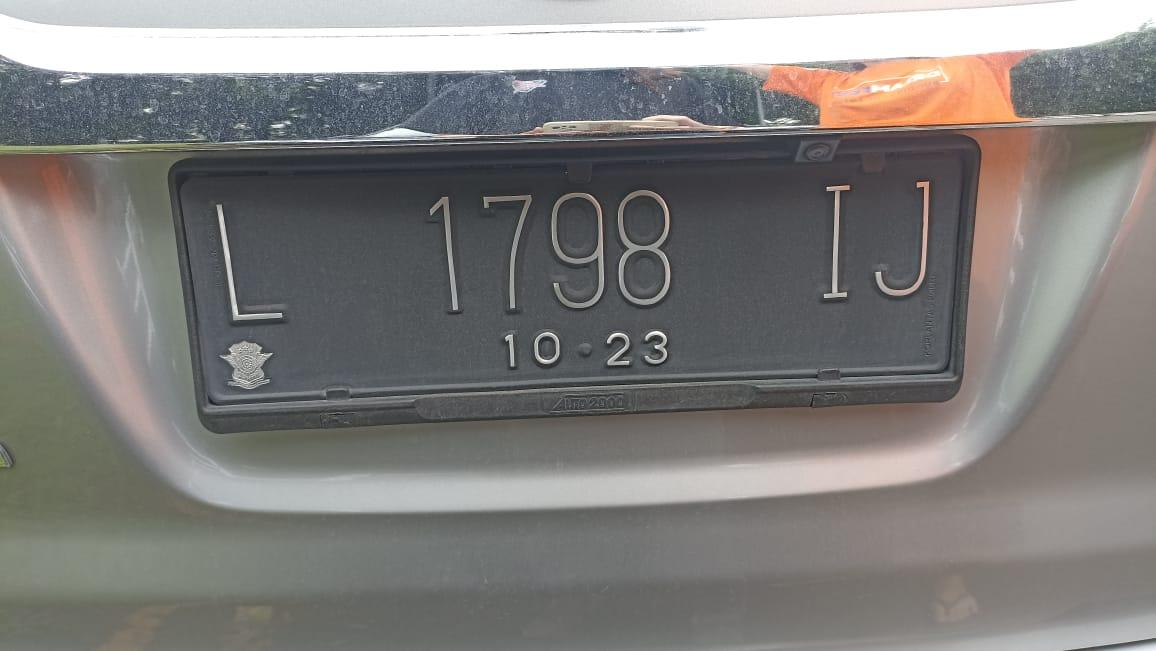plat: (169, 135, 980, 431)
